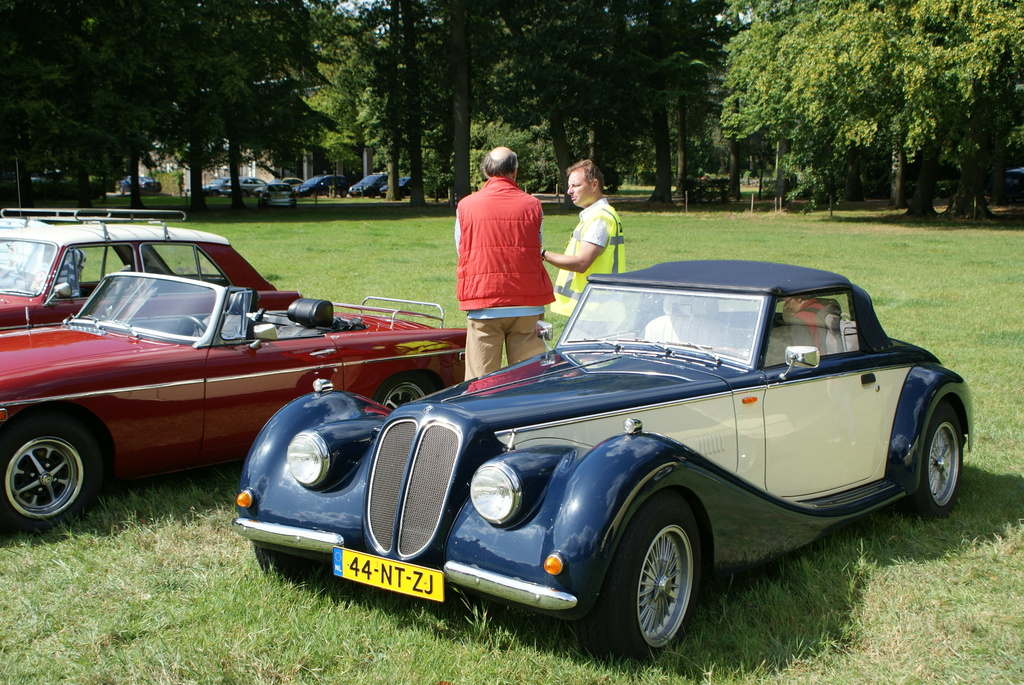mobil: (264, 255, 988, 622), (12, 275, 477, 568)
